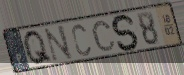8: (137, 11, 160, 47)
C: (91, 19, 117, 53), (71, 22, 92, 57)
N: (43, 24, 75, 64)
Q: (22, 29, 54, 67)
S: (111, 13, 140, 52)
